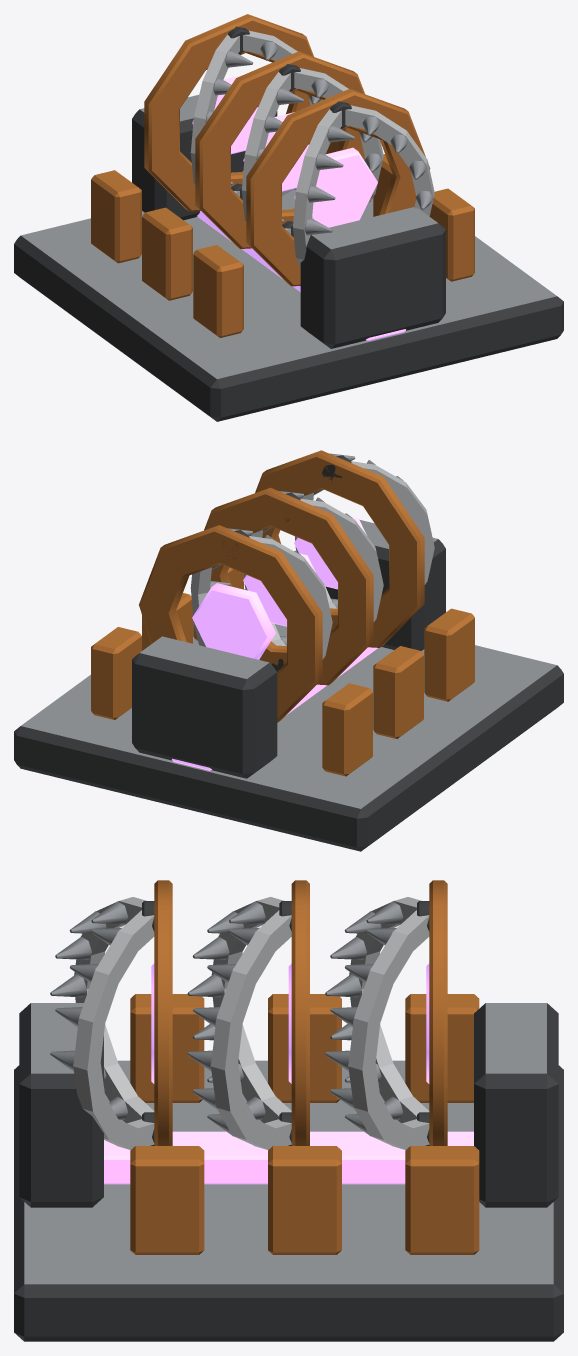
Rendered from R4X_SnareTrapDeployer_LOD1.fbx.
3 views of the same model, one above another, from view 1: azimuth 30°, elevation 25°; view 2: azimuth 150°, elevation 25°; view 3: azimuth 270°, elevation 25° (orthographic). The views are drawn at different scales.
Parts seen in each view (by area): view 1: R4X_SnareTrapDeployer_LOD1; view 2: R4X_SnareTrapDeployer_LOD1; view 3: R4X_SnareTrapDeployer_LOD1.
Boxes of the visible parts, x1,y1,x2,y2 form: R4X_SnareTrapDeployer_LOD1: (14, 14, 563, 421); R4X_SnareTrapDeployer_LOD1: (14, 450, 563, 851); R4X_SnareTrapDeployer_LOD1: (14, 880, 563, 1341).
Bounding box in the file's own units: 0.52 × 0.3492 × 0.52.
